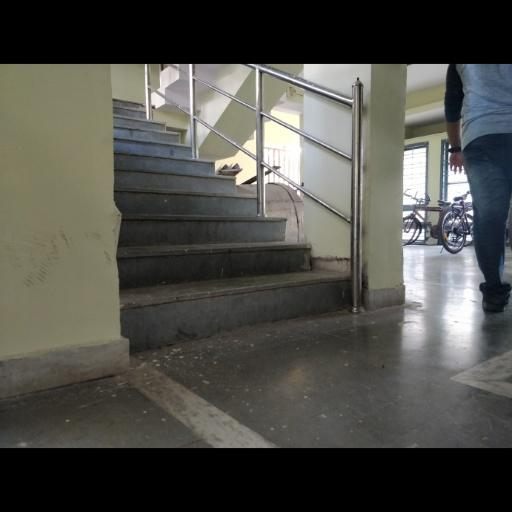stairs: (113, 100, 349, 352)
